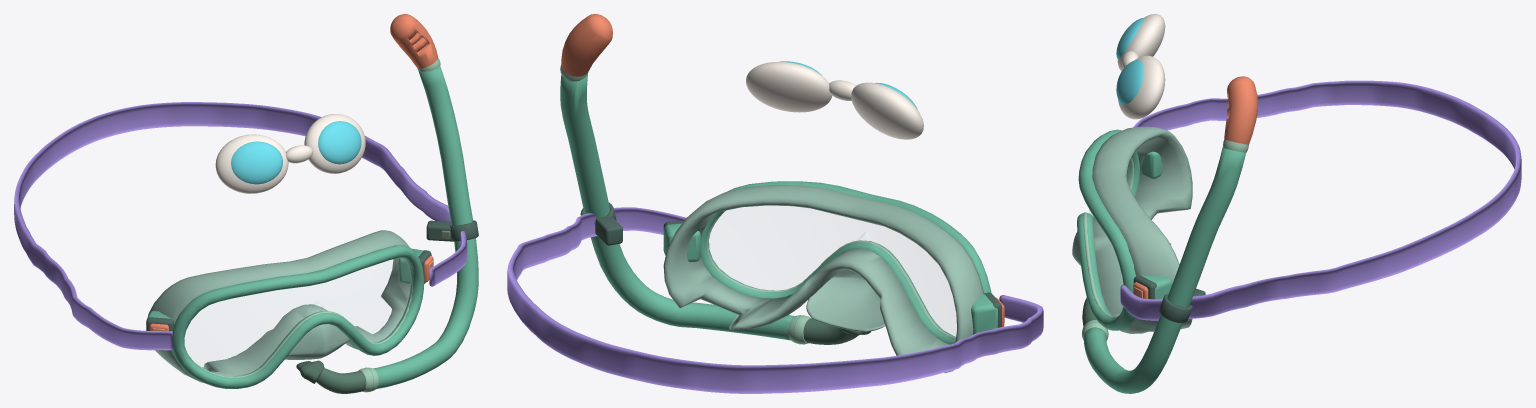
The model's file is chibi_dive_gear.glb.
3 views of the same model, side by side, from view 1: azimuth 30°, elevation 25°; view 2: azimuth 150°, elevation 25°; view 3: azimuth 270°, elevation 25° (orthographic). The views are drawn at different scales.
Parts seen in each view (by area): view 1: DivingMask, HeadStrap, Snorkel, ForeheadGoggles; view 2: DivingMask, HeadStrap, Snorkel, ForeheadGoggles; view 3: HeadStrap, DivingMask, Snorkel, ForeheadGoggles.
Boxes of the visible parts, <box> form: DivingMask: <box>146,230,433,388</box>; HeadStrap: <box>14,102,467,350</box>; Snorkel: <box>296,14,478,393</box>; ForeheadGoggles: <box>215,114,365,193</box>; DivingMask: <box>663,181,1004,373</box>; HeadStrap: <box>507,207,1043,393</box>; Snorkel: <box>560,14,870,344</box>; ForeheadGoggles: <box>746,61,923,139</box>; HeadStrap: <box>1120,80,1521,320</box>; DivingMask: <box>1072,126,1192,333</box>; Snorkel: <box>1082,76,1258,393</box>; ForeheadGoggles: <box>1116,14,1165,119</box>.
Bounding box in the file's own units: 0.7092 × 0.5266 × 0.6611.
